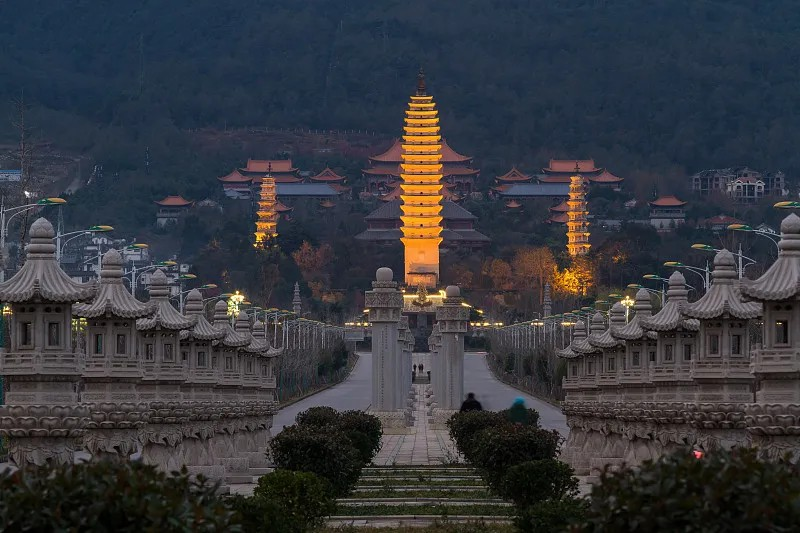ThreePagoda: (399, 66, 443, 288)
